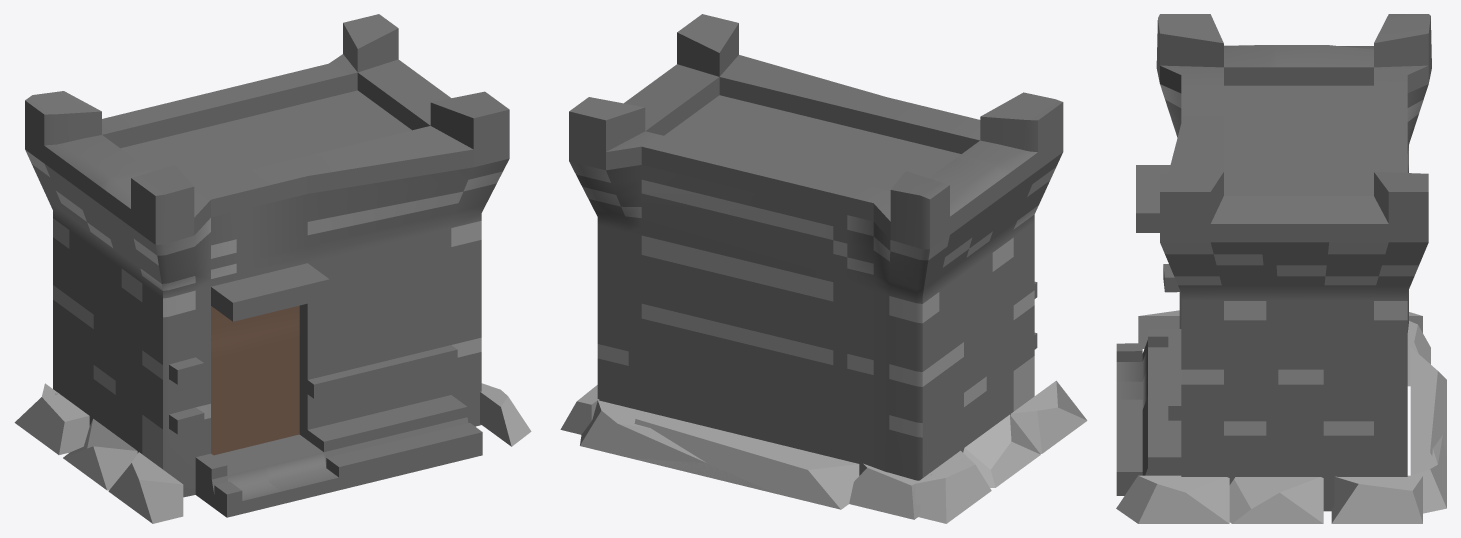
The model's file is Building_3.fbx.
3 views of the same model, side by side, from view 1: azimuth 30°, elevation 25°; view 2: azimuth 150°, elevation 25°; view 3: azimuth 270°, elevation 25° (orthographic). The views are drawn at different scales.
Parts seen in each view (by area): view 1: Building_3; view 2: Building_3; view 3: Building_3.
Part boxes in pixels (<box>): Building_3: <box>14,14,531,523</box>; Building_3: <box>560,14,1087,523</box>; Building_3: <box>1116,14,1446,523</box>.
Size of the model in its own units: 66.99 by 54.62 by 49.23.
